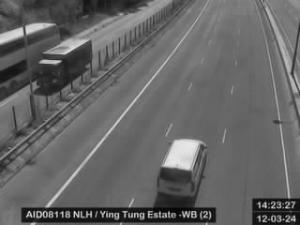bus: (0, 22, 60, 100)
truck: (36, 38, 90, 90)
vehicle: (156, 139, 208, 204)
